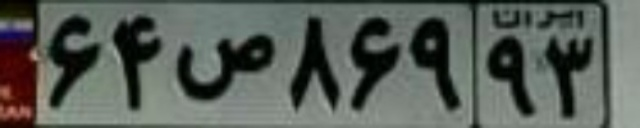3: (544, 35, 595, 118)
4: (109, 16, 158, 110)
6: (347, 16, 399, 113), (45, 14, 98, 107)
8: (286, 15, 337, 112)
9: (409, 19, 461, 111), (486, 36, 535, 117)
saat: (174, 34, 274, 102)
